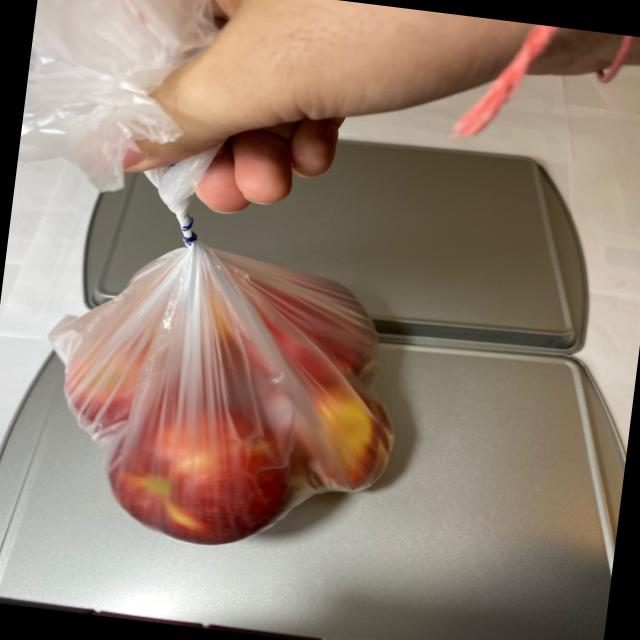apple: (40, 240, 418, 569)
